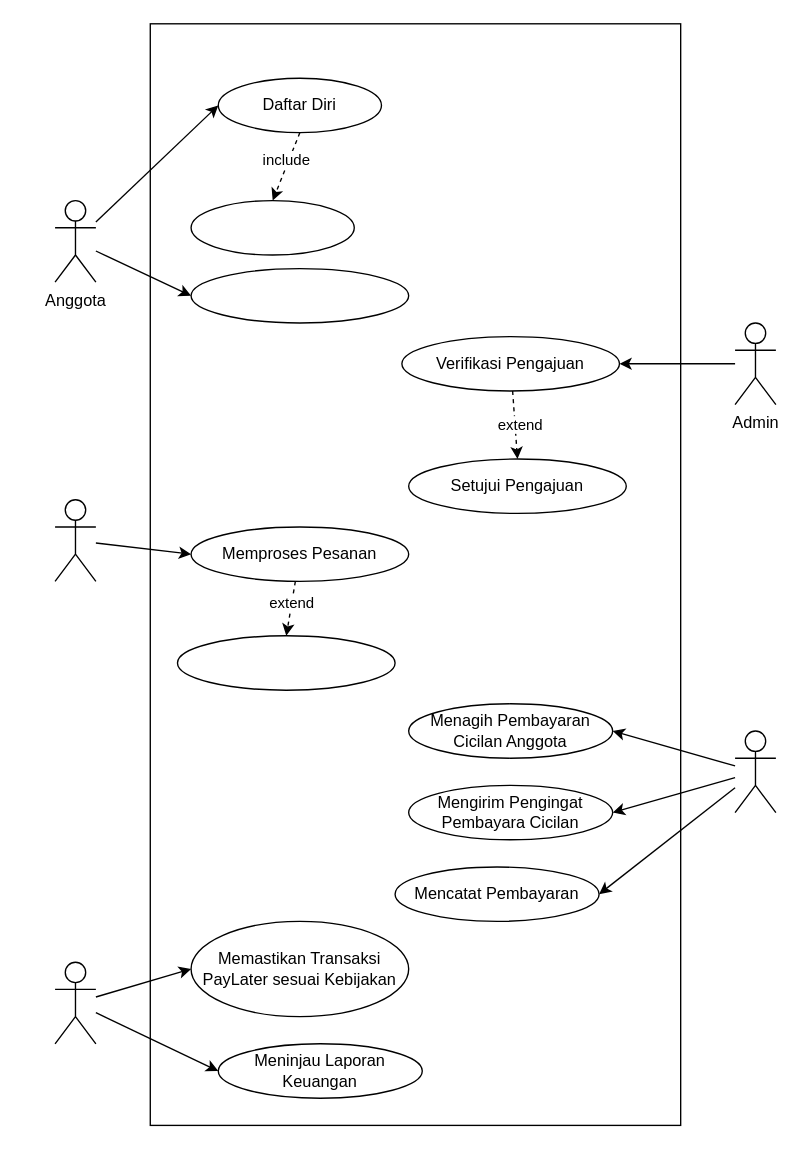
Image size: 809x1149. Some labels were removed from this diagram. Here are the shapes that lost their labels. From the top down, the centre of each, then its label:
At (x=272, y=227): "Login".
At (x=299, y=295): "Mengajukan PayLater".
At (x=75, y=539): "Penjual".
At (x=285, y=662): "Mengirimkan Smartphone".
At (x=755, y=771): "Penagih".
At (x=75, y=1002): "Ketua Operasi".
